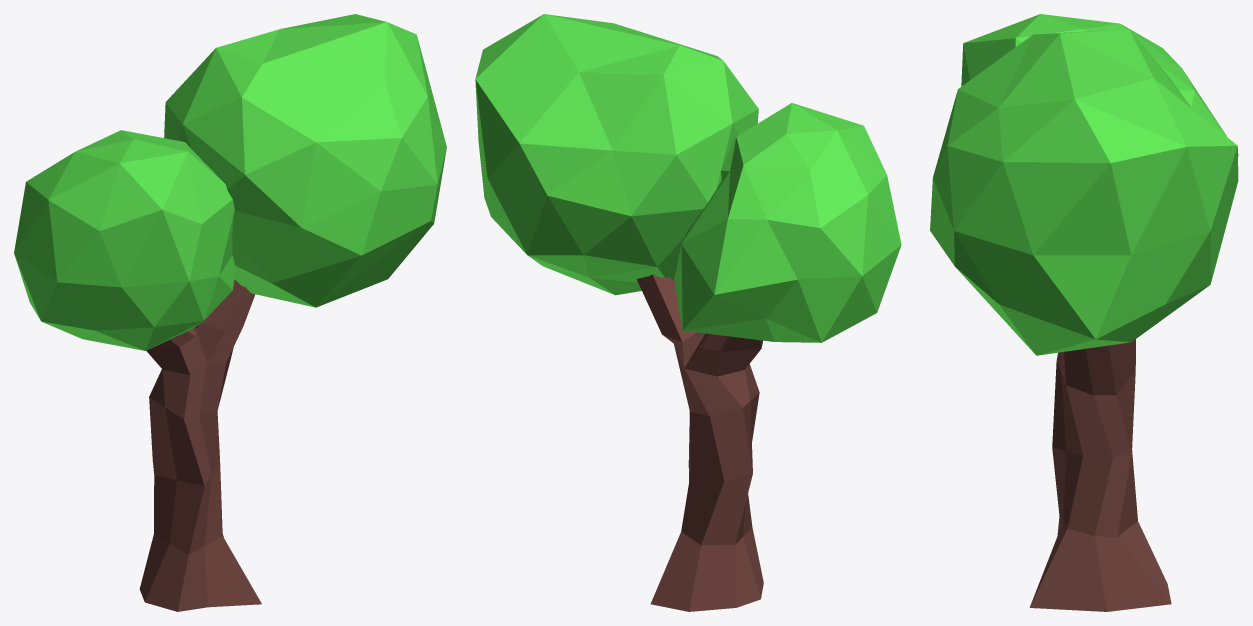
The model's file is Arvore3.fbx.
3 views of the same model, side by side, from view 1: azimuth 30°, elevation 25°; view 2: azimuth 150°, elevation 25°; view 3: azimuth 270°, elevation 25° (orthographic). The views are drawn at different scales.
Visible parts, largest first — view 1: Icosphere.001; view 2: Icosphere.001; view 3: Icosphere.001.
Part boxes in pixels (x1=…): Icosphere.001: x1=14, y1=14, x2=446, y2=611; Icosphere.001: x1=475, y1=14, x2=901, y2=611; Icosphere.001: x1=930, y1=14, x2=1238, y2=611.
Bounding box in the file's own units: 1453 × 1846 × 881.
